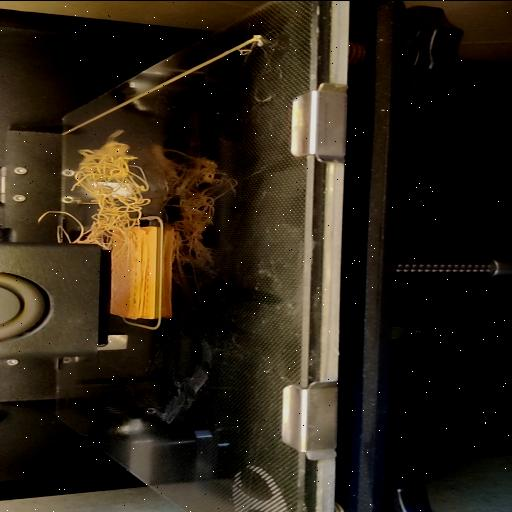spaghetti: (38, 162, 158, 242)
